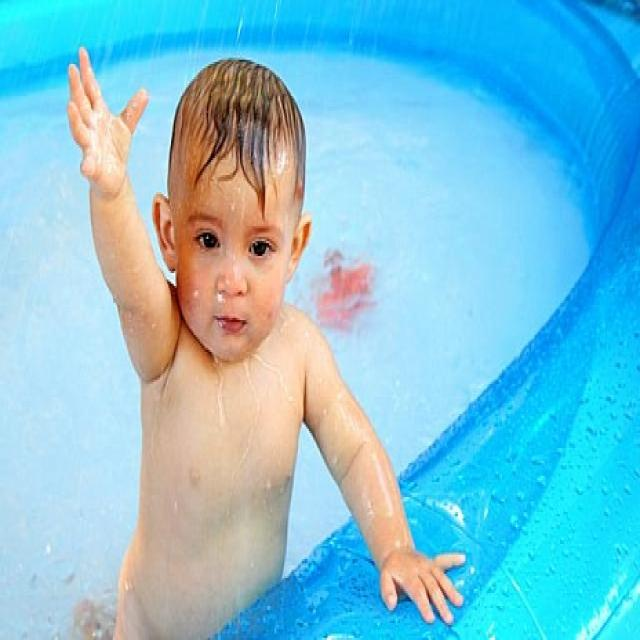Eyes: (183, 207, 287, 271)
